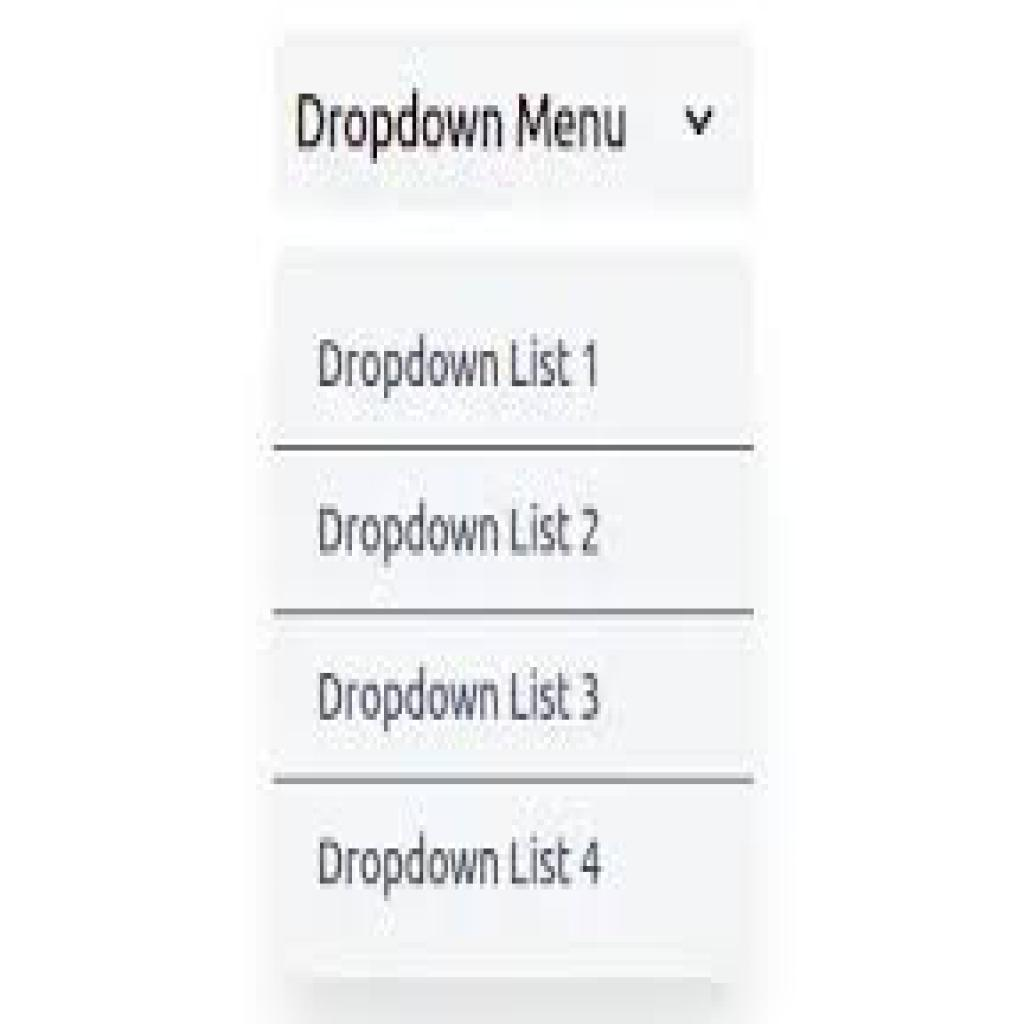dropdown: (267, 26, 759, 215)
